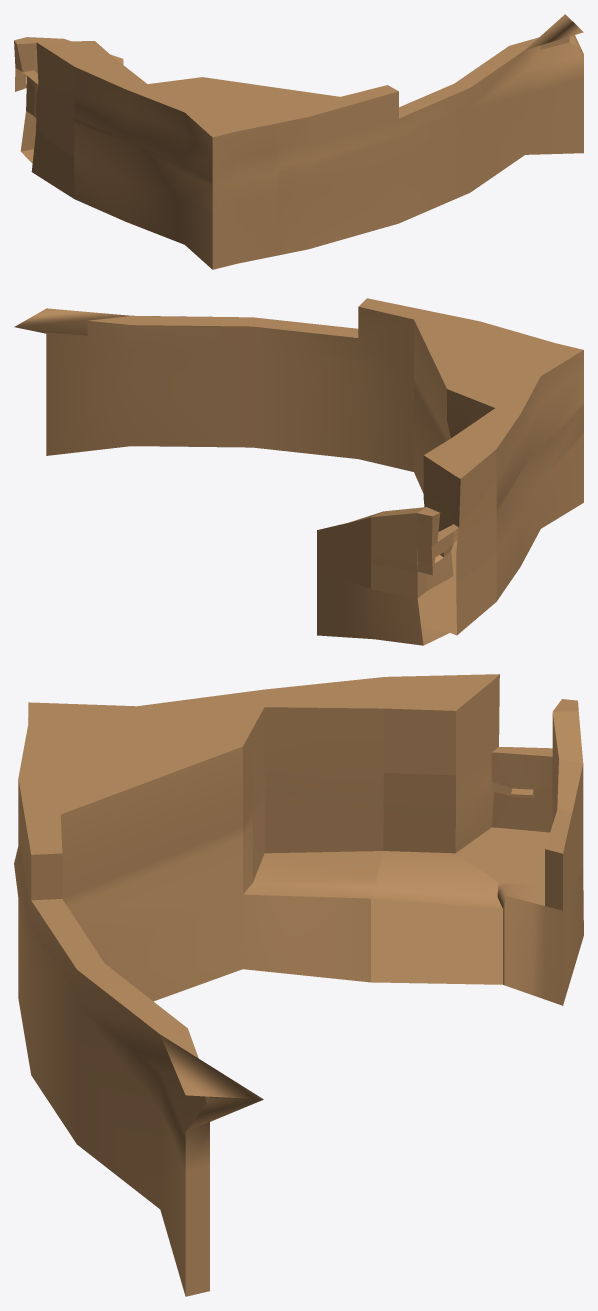
The model's file is terrain_W4A5.fbx.
3 renders of one model, top to bottom at view 1: azimuth 30°, elevation 25°; view 2: azimuth 150°, elevation 25°; view 3: azimuth 270°, elevation 25°, orthographic. The views are drawn at different scales.
Visible parts, largest first — view 1: W4A5_mesh; view 2: W4A5_mesh; view 3: W4A5_mesh.
Boxes of the visible parts, box(x1,y1,x2,y2) form: W4A5_mesh: box(14, 14, 583, 269); W4A5_mesh: box(14, 298, 583, 645); W4A5_mesh: box(14, 674, 583, 1296).
Size of the model in its own units: 47801 by 15178 by 30852.
